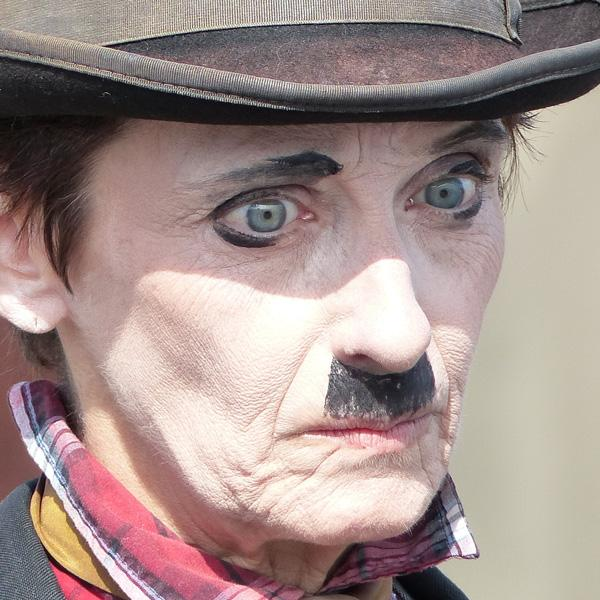Eyes: (195, 171, 324, 258), (395, 145, 494, 235)
